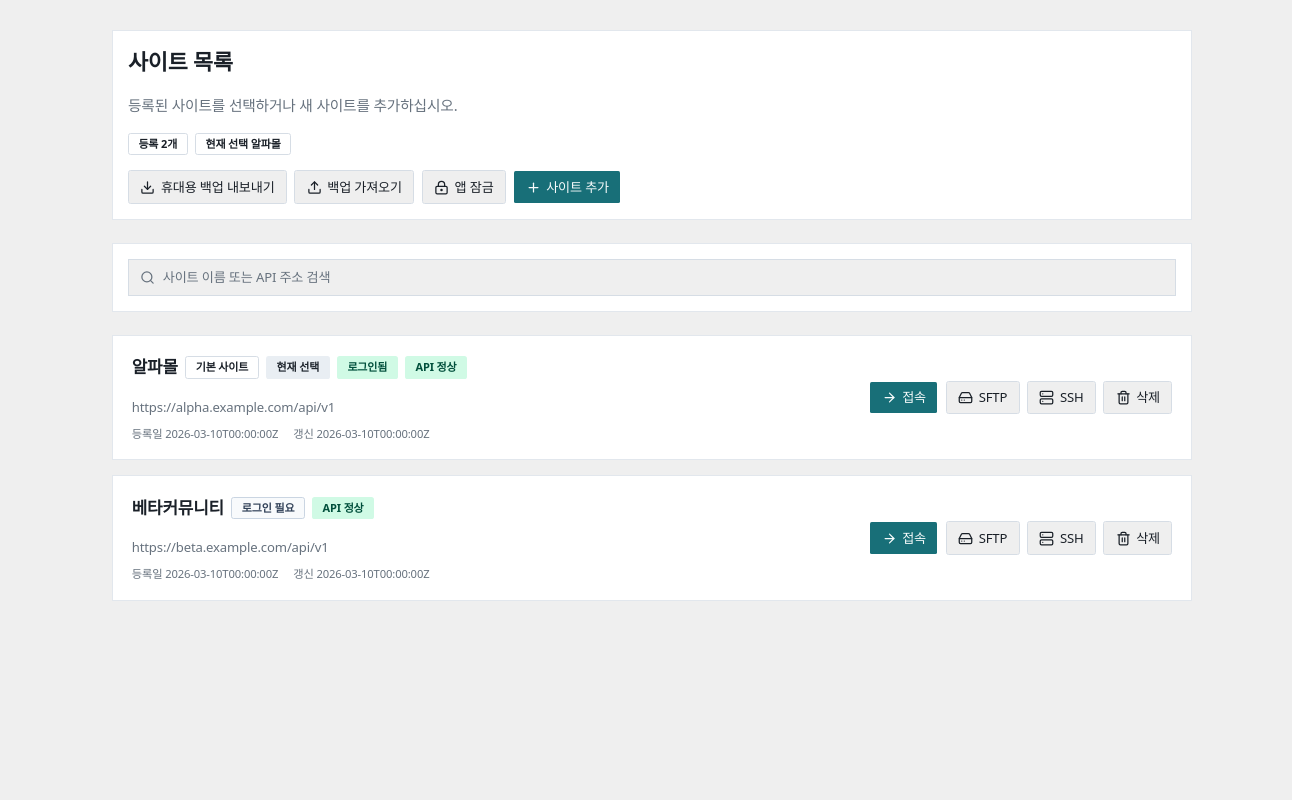
it: SiteDashboardPage › activates the selected site only from the explicit connect action
Click the button with aria-label "알파몰 접속": (904, 397) [869,380,938,414]
(page scrolled)
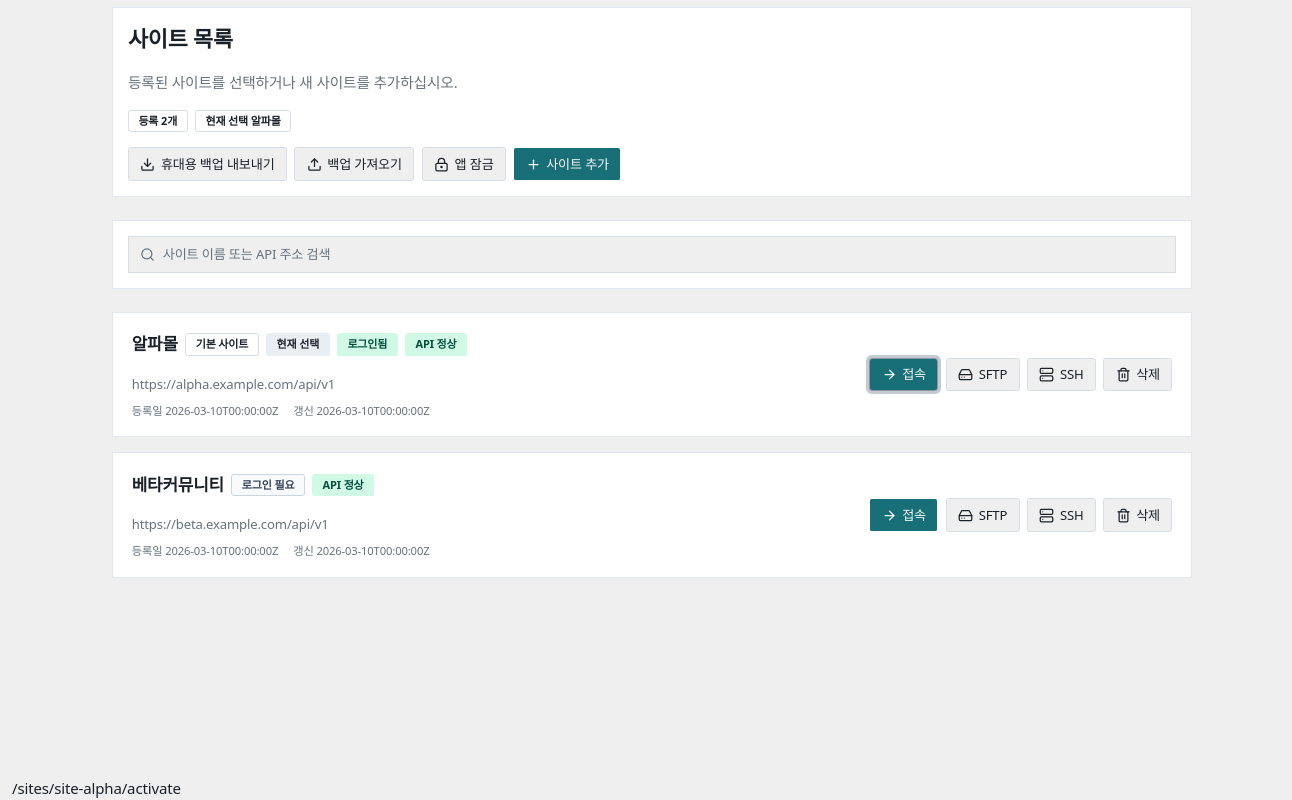
Expected: the text with test id "location" reads "/sites/site-alpha/activate", [12,778,181,798]
